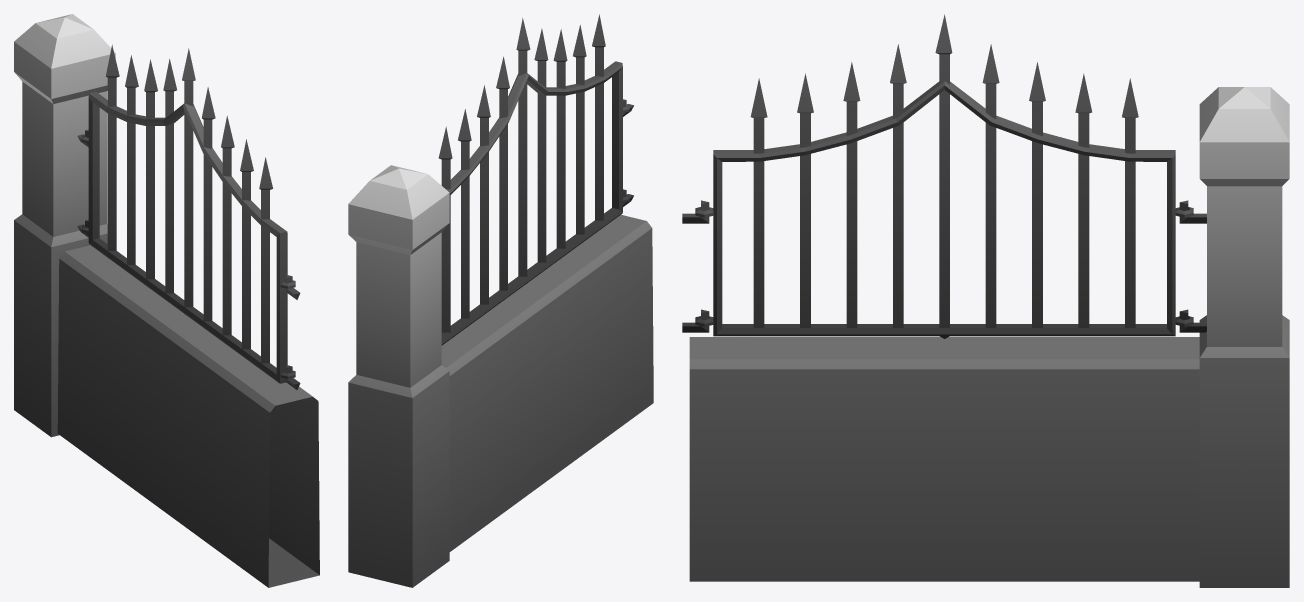
File: FenceStone.fbx
The picture shows the model from 3 angles, left to right: view 1: azimuth 30°, elevation 25°; view 2: azimuth 150°, elevation 25°; view 3: azimuth 270°, elevation 25°; orthographic projection. The views are drawn at different scales.
Parts seen in each view (by area): view 1: FenceStone1; view 2: FenceStone1; view 3: FenceStone1.
Boxes of the visible parts, bbox=[...] form: FenceStone1: bbox=[14, 14, 319, 587]; FenceStone1: bbox=[348, 14, 653, 587]; FenceStone1: bbox=[682, 14, 1289, 587].
Size of the model in its own units: 0.6 by 4.08 by 4.05.
1 material, 1 textured.
